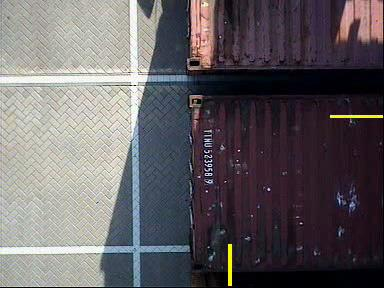groundmarker_2: (144, 40, 210, 84), (142, 210, 207, 254), (140, 148, 206, 191)
